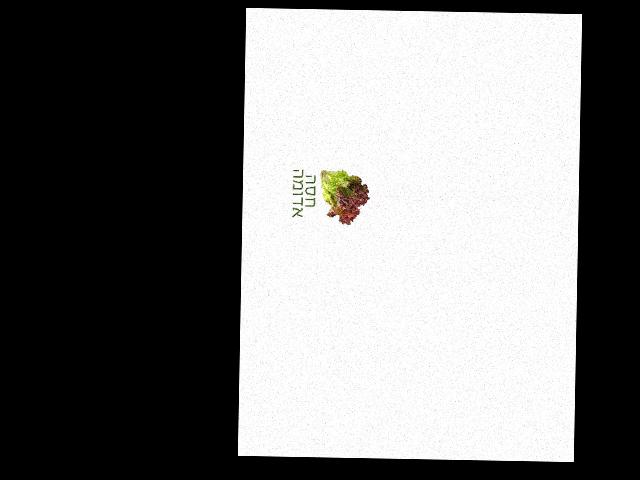lettuce: (317, 164, 370, 226)
